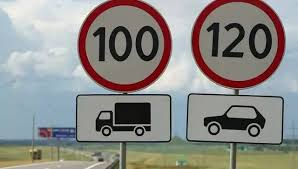Speed_limit_100km: (77, 1, 173, 93)
Speed_limit_120km: (190, 1, 286, 90)
